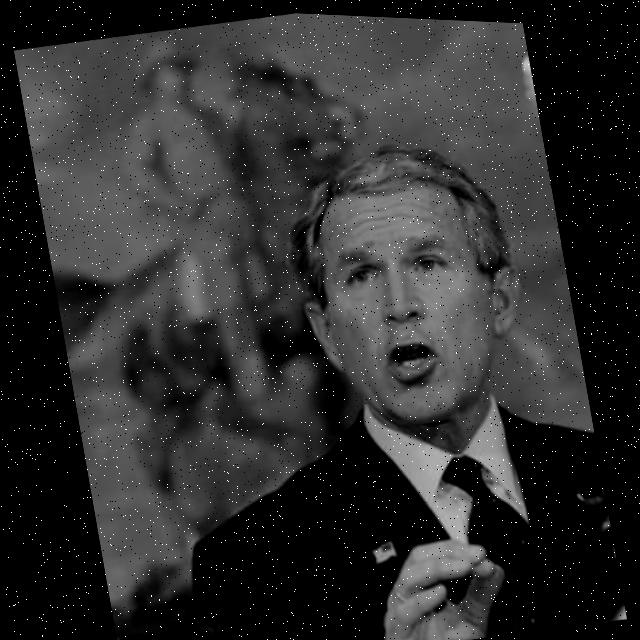face: (278, 147, 537, 449)
